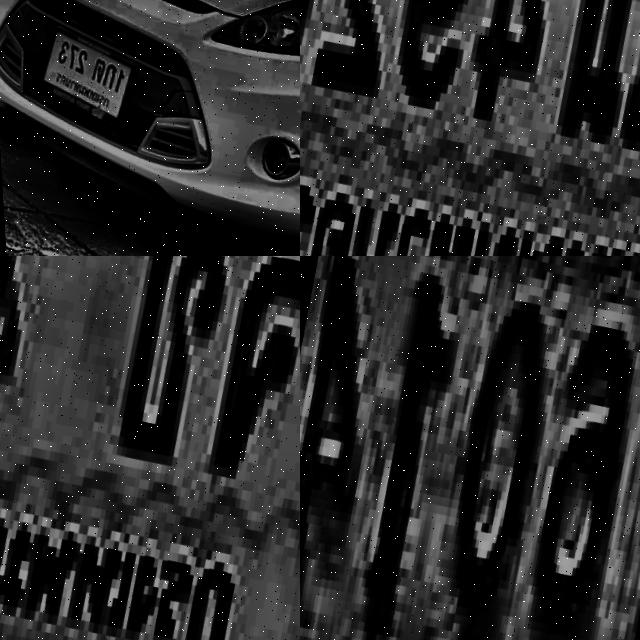license-plate: (300, 256, 640, 640), (0, 256, 300, 640), (300, 0, 640, 256), (24, 19, 137, 129)
